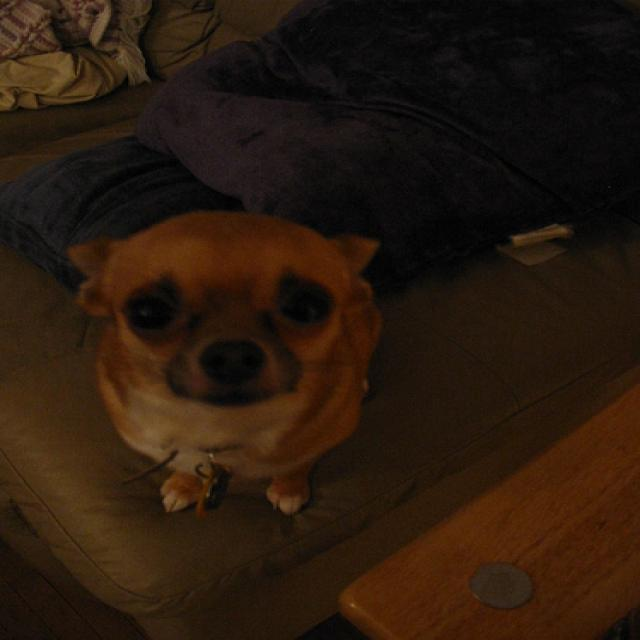dog: (91, 202, 442, 541)
